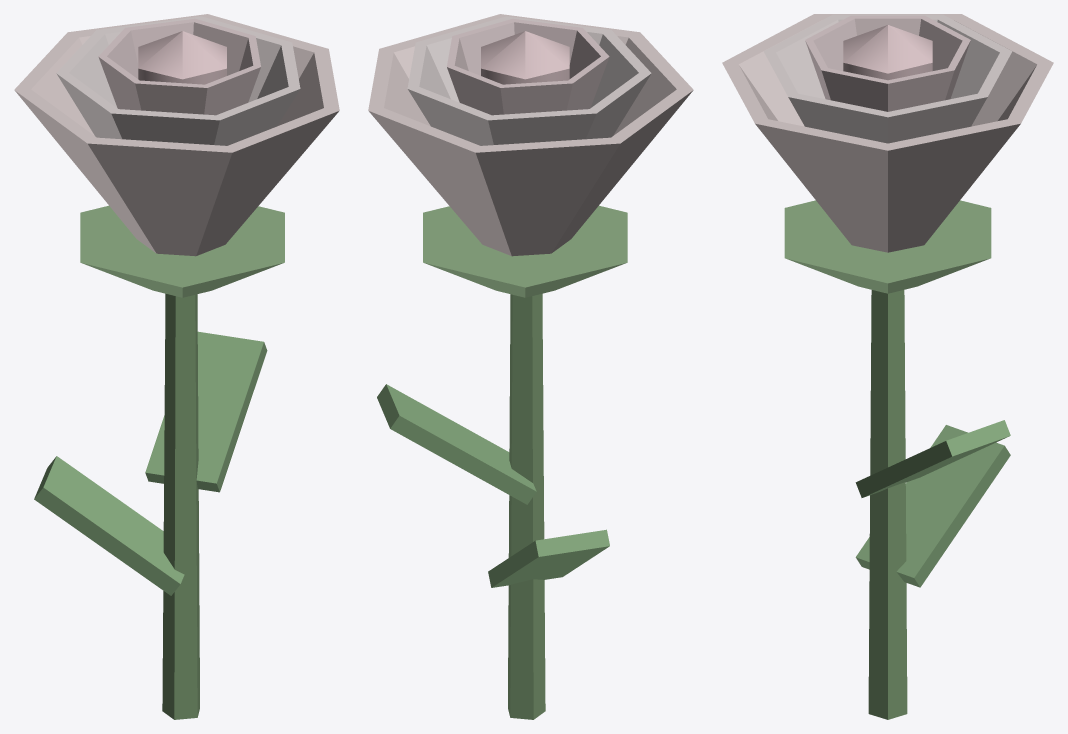
File: item_rose.glb
3 views of the same model, side by side, from view 1: azimuth 30°, elevation 25°; view 2: azimuth 150°, elevation 25°; view 3: azimuth 270°, elevation 25° (orthographic).
Parts seen in each view (by area): view 1: Item_rose; view 2: Item_rose; view 3: Item_rose.
Part boxes in pixels (x1,y1,x2,y2): Item_rose: (14, 14, 339, 719); Item_rose: (368, 14, 693, 719); Item_rose: (722, 14, 1053, 719).
Size of the model in its own units: 0.1901 by 0.445 by 0.195.
